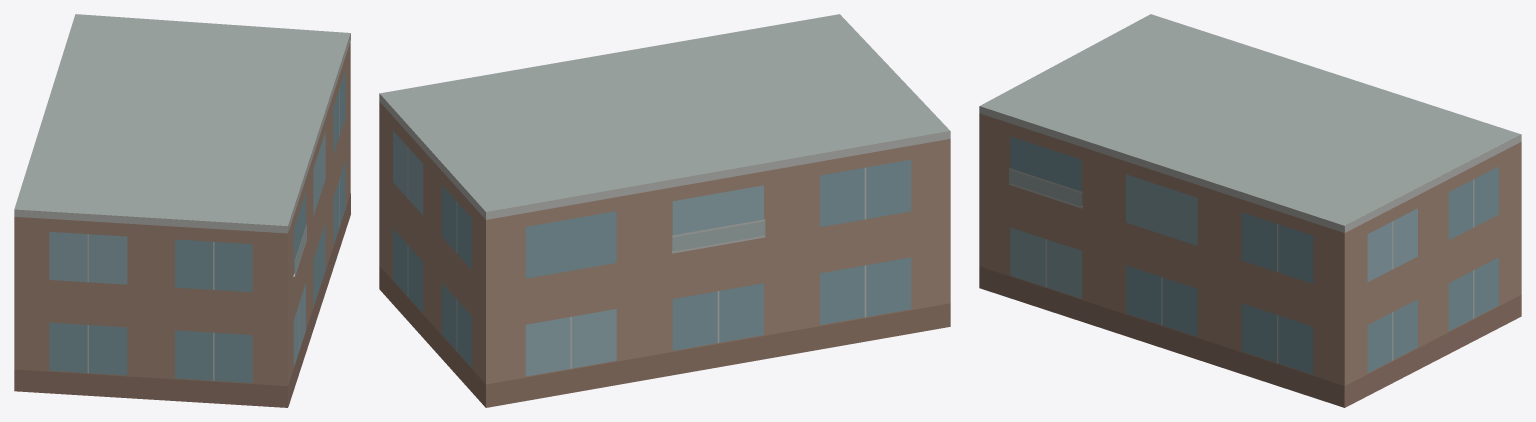
The model's file is survey-upis-32890916.glb.
The picture shows the model from 3 angles, left to right: view 1: azimuth 30°, elevation 25°; view 2: azimuth 150°, elevation 25°; view 3: azimuth 270°, elevation 25°; orthographic projection. The views are drawn at different scales.
Visible parts, largest first — view 1: survey-upis-32890916.tmp; view 2: survey-upis-32890916.tmp; view 3: survey-upis-32890916.tmp.
Boxes of the visible parts, left/top/right/bottom form: survey-upis-32890916.tmp: left=14, top=14, right=350, bottom=407; survey-upis-32890916.tmp: left=379, top=14, right=950, bottom=407; survey-upis-32890916.tmp: left=979, top=14, right=1521, bottom=407.
Bounding box in the file's own units: 15.23 × 6.1 × 16.47.
